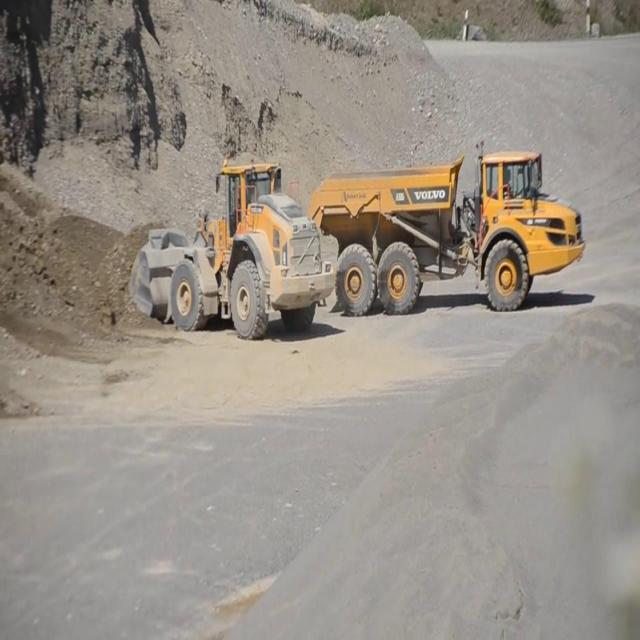Dump Truck: (306, 138, 586, 324)
Loader: (124, 152, 334, 341)
